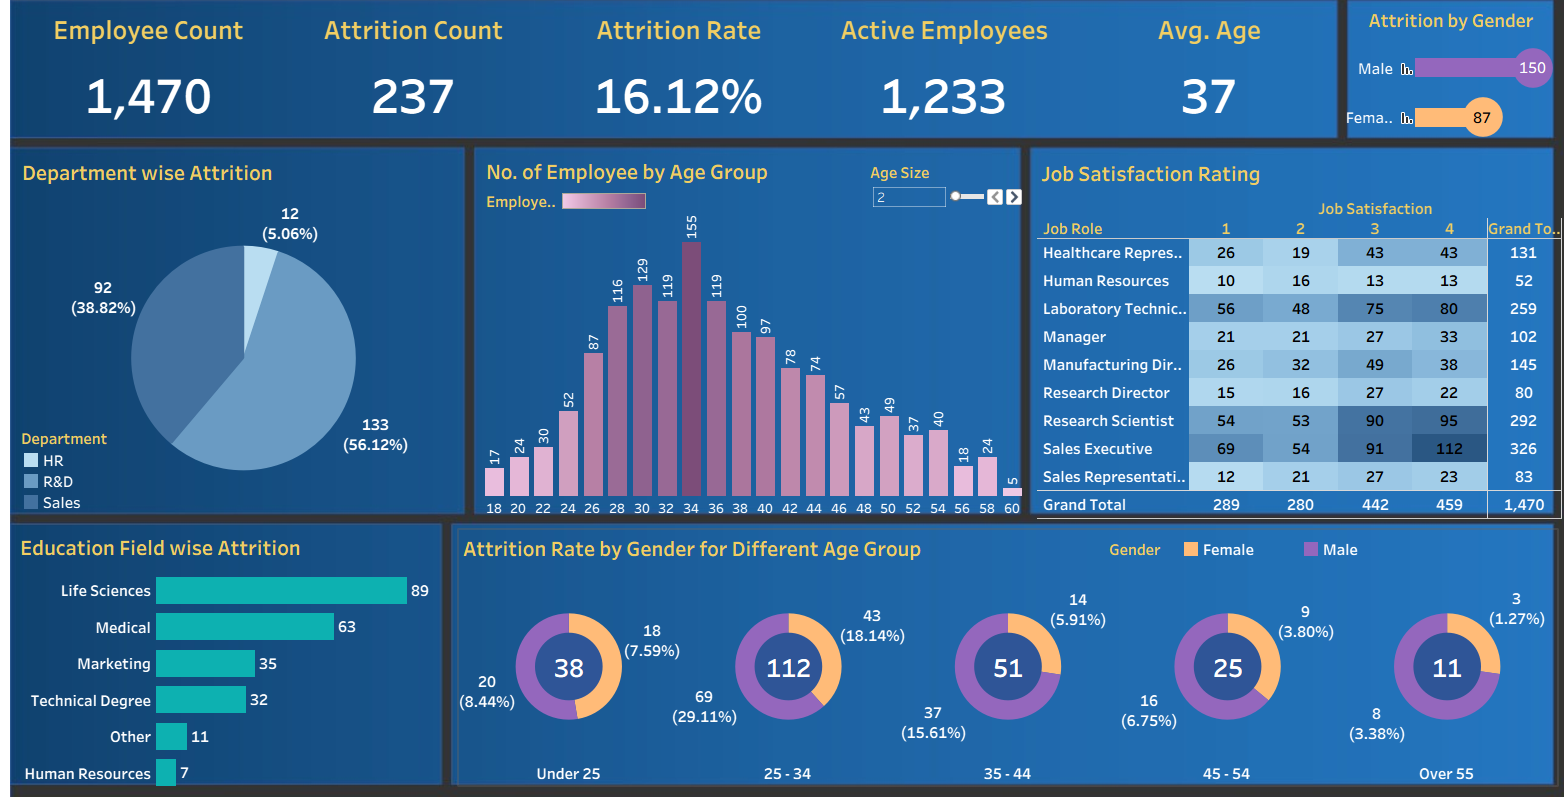

What the dashboard file says about the page in this screenshot:
{"tool":"tableau","page":{"name":"HR Dashboard ","canvas":[1580,900],"ordinal":0},"visuals":[{"type":"image","param":"Image/BG.jpg","box":[8,8,1564,884]},{"type":"text","box":[19,19,1028,65]},{"type":"filter","title":"Department wise Attrition","param":"[federated.0f0h03p1it3gvo176rhln1y1tx4v].[none:Education:nk]","box":[975,21,231,62]},{"type":"worksheet","title":"Attrition by Gender","mark":"Automatic","rows":["Gender"],"cols":["Calculation_231935388807032832","Calculation_231935388807032832"],"box":[1345,93,216,139]},{"type":"worksheet","title":"KPI","mark":"Automatic","box":[18,96,1326,136]},{"type":"worksheet","title":"No. of Employee by Age Group","mark":"Automatic","rows":["Employee Count"],"cols":["Age (bin)"],"box":[484,243,543,365]},{"type":"worksheet","title":"Department wise Attrition","mark":"Pie","box":[20,244,451,365]},{"type":"worksheet","title":"Job Satisfaction Rating","mark":"Square","rows":["Job Role"],"cols":["Job Satisfaction"],"box":[1039,245,525,364]},{"type":"parameter","param":"[Parameters].[Age Parameter]","box":[872,252,155,49]},{"type":"legend","title":"No. of Employee by Age Group","param":"[federated.0f0h03p1it3gvo176rhln1y1tx4v].[sum:Employee Count:qk]","box":[488,279,164,24]},{"type":"legend","title":"Department wise Attrition","param":"[federated.0f0h03p1it3gvo176rhln1y1tx4v].[none:Department:nk]","box":[23,518,140,85]},{"type":"worksheet","title":"Education Field wise Attrition","mark":"Automatic","rows":["Education Field"],"cols":["Calculation_231935388807032832"],"box":[18,619,431,262]},{"type":"worksheet","title":"Attrition Rate by Gender for Different Age Group","mark":"Pie","rows":["Calculation_1302666200262176769","Calculation_1302666200262176769"],"cols":["CF_age band"],"box":[461,620,1098,255]},{"type":"legend","title":"Attrition Rate by Gender for Different Age Group","param":"[federated.0f0h03p1it3gvo176rhln1y1tx4v].[none:Gender:nk]","box":[1111,629,381,31]}]}

Visuals, with their boxes on the page's 1580x900 design canvas (x1, y1, x2, y2). These are canvas units, not pixel positions in the 1564x801 screenshot, which may show the page scaled, cropped or inside an application window:
image: 8,8,1572,892
text: 19,19,1047,84
"Department wise Attrition" filter: 975,21,1206,83
"Attrition by Gender" worksheet: 1345,93,1561,232
"KPI" worksheet: 18,96,1344,232
"No. of Employee by Age Group" worksheet: 484,243,1027,608
"Department wise Attrition" worksheet (Pie marks): 20,244,471,609
"Job Satisfaction Rating" worksheet (Square marks): 1039,245,1564,609
parameter: 872,252,1027,301
"No. of Employee by Age Group" legend: 488,279,652,303
"Department wise Attrition" legend: 23,518,163,603
"Education Field wise Attrition" worksheet: 18,619,449,881
"Attrition Rate by Gender for Different Age Group" worksheet (Pie marks): 461,620,1559,875
"Attrition Rate by Gender for Different Age Group" legend: 1111,629,1492,660
